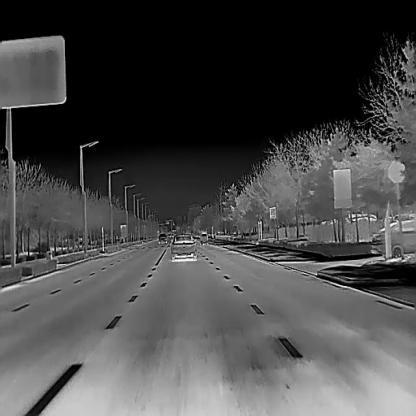car: (370, 219, 415, 258), (170, 234, 196, 259), (158, 233, 167, 243), (200, 232, 208, 242)
